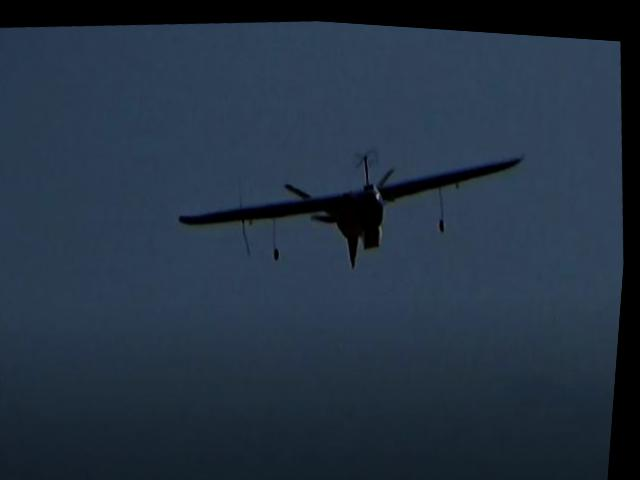iha: (153, 120, 544, 290)
